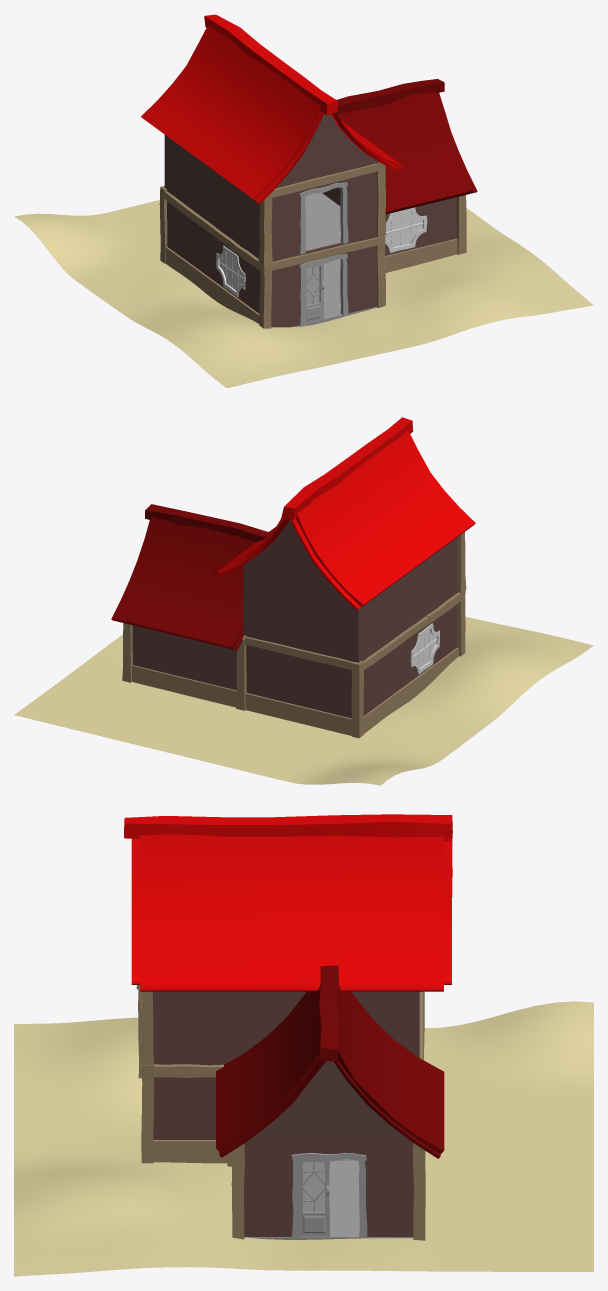
The model's file is Shop_Piece_Mesh.fbx.
3 views of the same model, one above another, from view 1: azimuth 30°, elevation 25°; view 2: azimuth 150°, elevation 25°; view 3: azimuth 270°, elevation 25° (orthographic). The views are drawn at different scales.
Parts seen in each view (by area): view 1: pPlane1, Outer_B1, Outer_B2, pCube30 (×2), Window_Wal_modl_geo (×2), Wall_Normal4, Front_Roof_Wall, Pillar1, Top_Floor, Half_Wall4, pasted__pCube85, Bottom_Floor_A1 (+18 smaller); view 2: pPlane1, Outer_B1, Outer_A1, Wall_Normal7, Wall_Normal3, Wall_Normal2, Wall_Normal4, Pillar1, Window_Wal_modl_geo, Front_Roof_Wall3, Full_Wall_Decal_mod_geo5, Full_Wall_Decal_mod_geo4 (+15 smaller); view 3: pPlane1, Out_A1, pCube30, Outer_A1, Outer_B2, Pillar1, Half_Wall3, Front_Roof_Wall2, Wall_Normal6, Half_Wall1, Botom_Floor_B1, Inner_A1 (+12 smaller).
Boxes of the visible parts, x1=… form: pPlane1: x1=14, y1=200, x2=593, y2=388; Outer_B1: x1=141, y1=25, x2=320, y2=200; Outer_B2: x1=337, y1=91, x2=473, y2=213; pCube30 (×2): x1=271, y1=165, x2=377, y2=327; Window_Wal_modl_geo (×2): x1=198, y1=197, x2=456, y2=313; Wall_Normal4: x1=198, y1=159, x2=259, y2=256; Front_Roof_Wall: x1=276, y1=114, x2=376, y2=187; Pillar1: x1=204, y1=14, x2=337, y2=114; Top_Floor: x1=305, y1=193, x2=340, y2=250; Half_Wall4: x1=165, y1=135, x2=197, y2=212; pasted__pCube85: x1=336, y1=79, x2=444, y2=114; Bottom_Floor_A1: x1=291, y1=264, x2=377, y2=327; pPlane1: x1=14, y1=616, x2=593, y2=785; Outer_B1: x1=295, y1=430, x2=474, y2=606; Outer_A1: x1=113, y1=516, x2=255, y2=648; Wall_Normal7: x1=243, y1=564, x2=359, y2=662; Wall_Normal3: x1=246, y1=636, x2=351, y2=718; Wall_Normal2: x1=132, y1=625, x2=236, y2=690; Wall_Normal4: x1=391, y1=537, x2=457, y2=638; Pillar1: x1=281, y1=417, x2=413, y2=520; Window_Wal_modl_geo: x1=391, y1=591, x2=457, y2=694; Front_Roof_Wall3: x1=245, y1=520, x2=330, y2=584; Full_Wall_Decal_mod_geo5: x1=245, y1=693, x2=351, y2=735; Full_Wall_Decal_mod_geo4: x1=132, y1=665, x2=236, y2=707; pPlane1: x1=14, y1=1001, x2=593, y2=1276; Out_A1: x1=140, y1=834, x2=443, y2=991; pCube30: x1=244, y1=1139, x2=413, y2=1236; Outer_A1: x1=337, y1=983, x2=444, y2=1154; Outer_B2: x1=216, y1=984, x2=321, y2=1151; Pillar1: x1=124, y1=814, x2=452, y2=840; Half_Wall3: x1=152, y1=991, x2=238, y2=1062; Front_Roof_Wall2: x1=250, y1=1061, x2=407, y2=1139; Wall_Normal6: x1=238, y1=991, x2=419, y2=1057; Half_Wall1: x1=153, y1=1062, x2=226, y2=1139; Botom_Floor_B1: x1=244, y1=1160, x2=413, y2=1239; Inner_A1: x1=131, y1=838, x2=452, y2=984.
Size of the model in its own units: 47.88 by 28.72 by 48.18.
